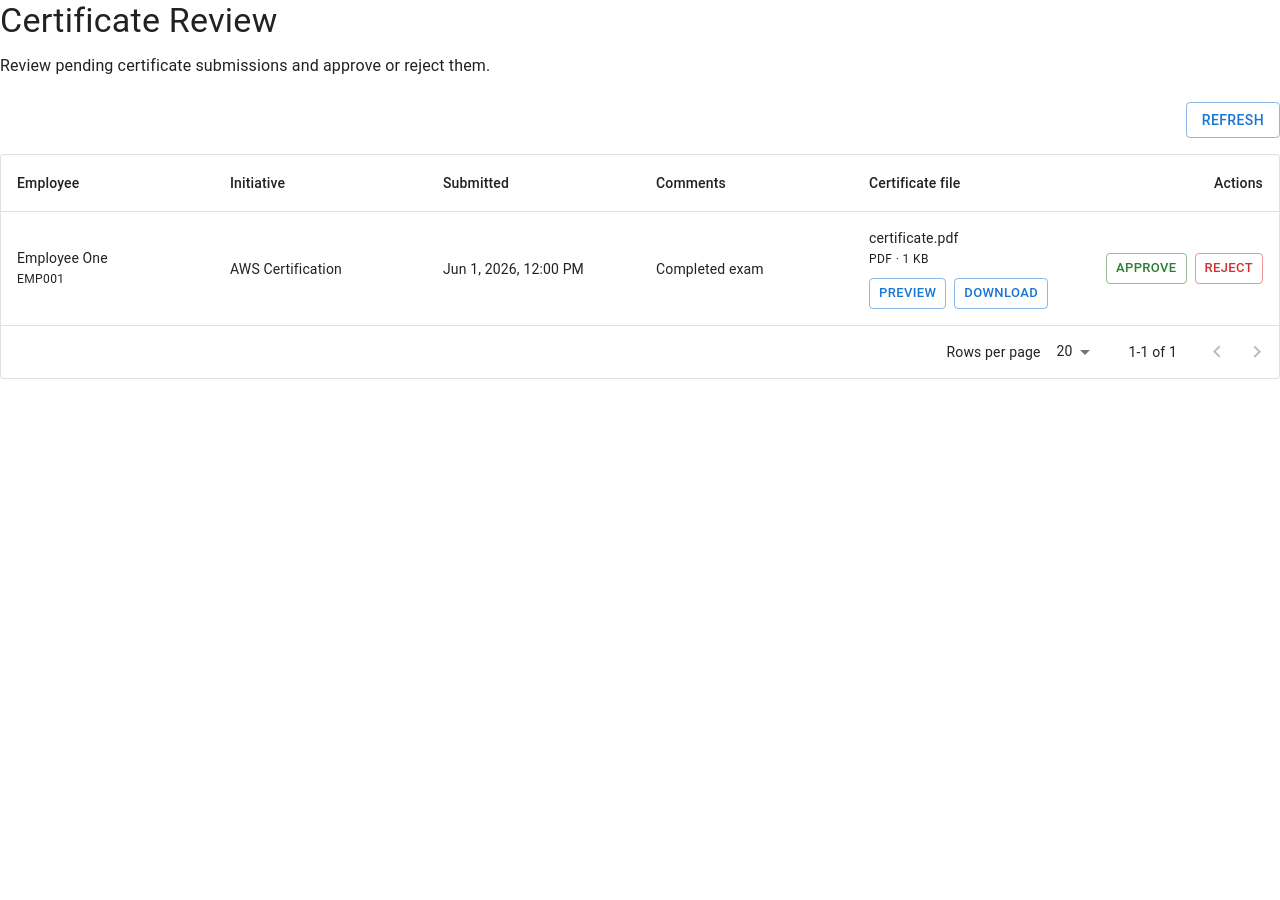
Test: AdminReviewPage › rejects a submission with a reason and shows success snackbar
The width and height of the screenshot is (1280, 900).
Expected: the text "Employee One" is shown, top-left (17, 250), bottom-right (108, 266)
Step 1. Click the button "Reject" → (1229, 269), box top-left (1194, 253), bottom-right (1263, 284)
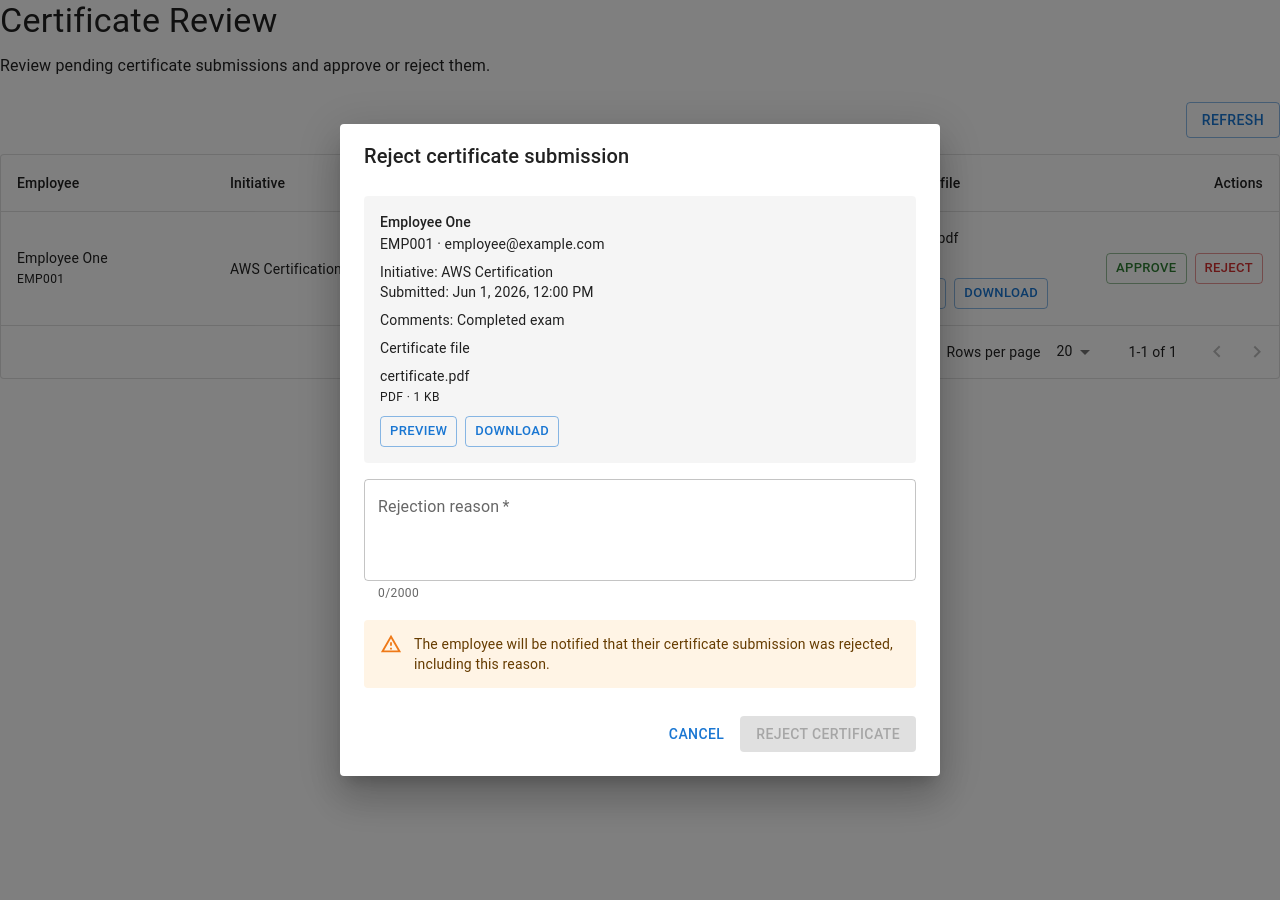
Step 2. Type "Certificate is not legible." into the text box labelled "Rejection reason" → (640, 530), box top-left (378, 495), bottom-right (902, 564)
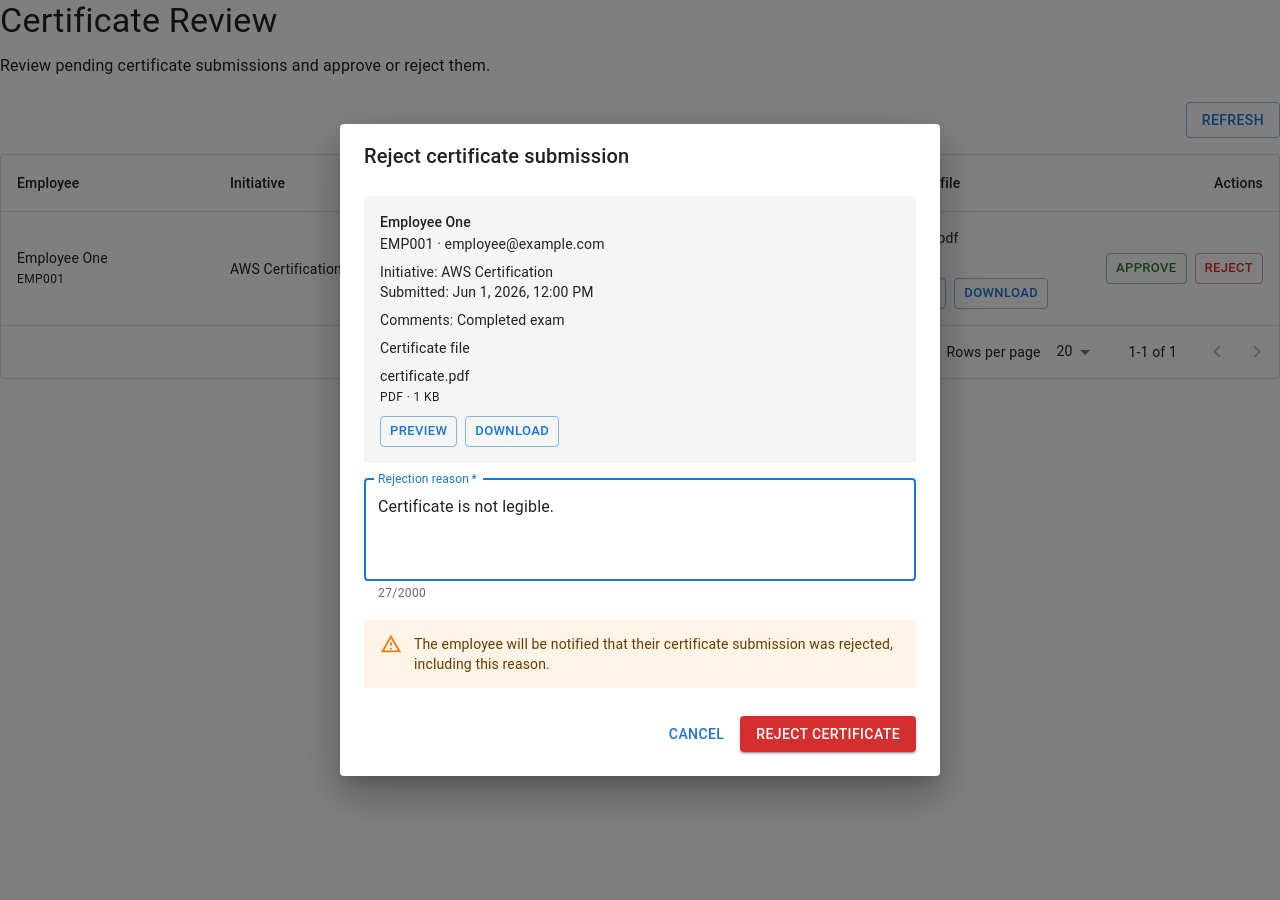
Step 3. Click the button "Reject certificate" → (828, 734), box top-left (740, 716), bottom-right (916, 752)
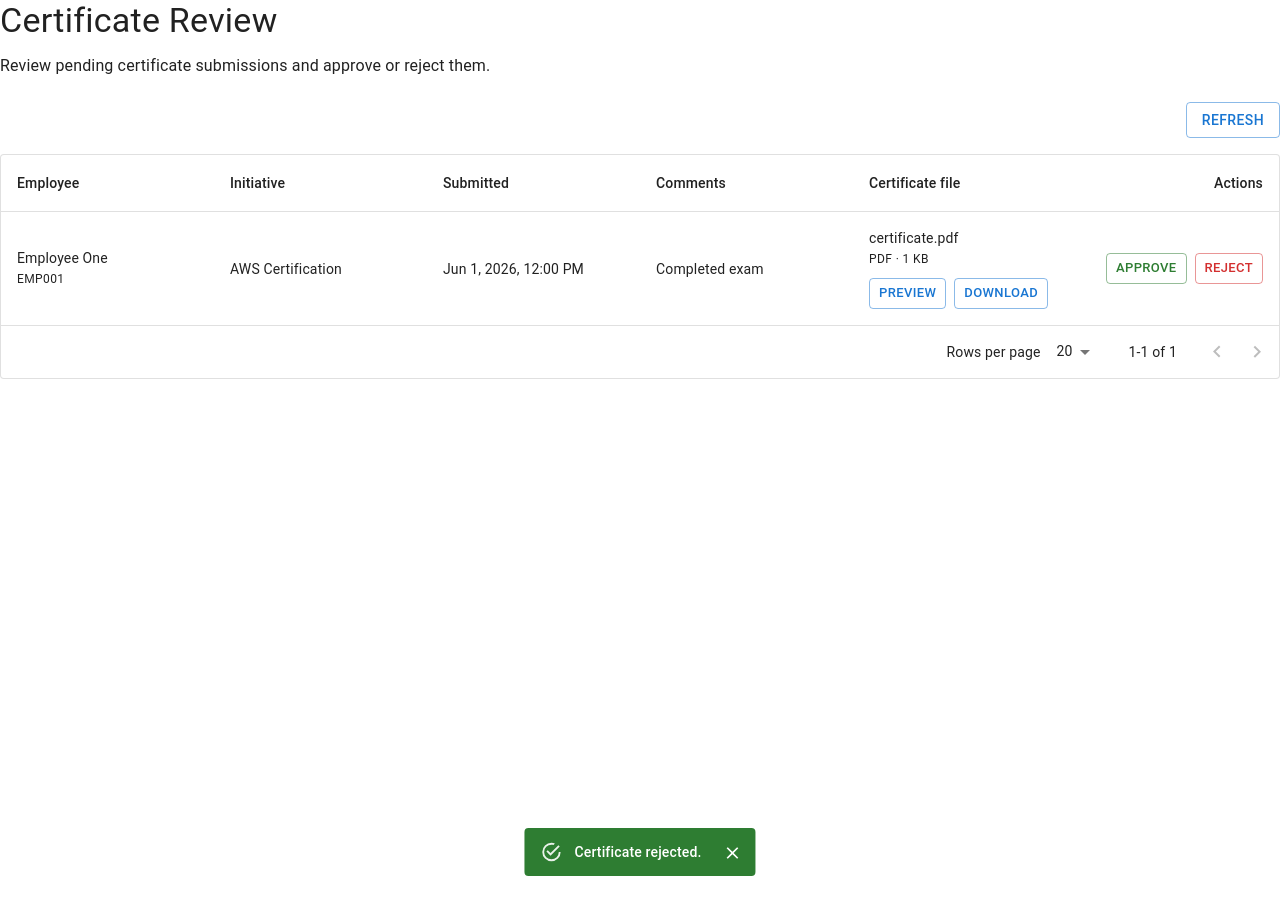
Now the text "Certificate rejected." is shown, box top-left (574, 844), bottom-right (702, 860)
